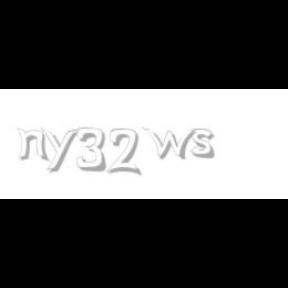2: (106, 128, 140, 176)
3: (76, 128, 107, 172)
n: (16, 128, 50, 162)
s: (191, 128, 219, 160)
w: (142, 128, 202, 160)
y: (41, 128, 81, 172)
